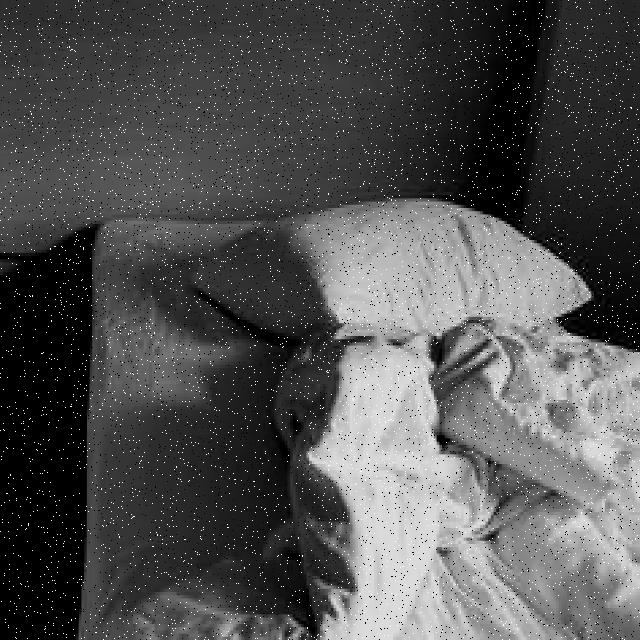bed: (101, 178, 640, 639)
